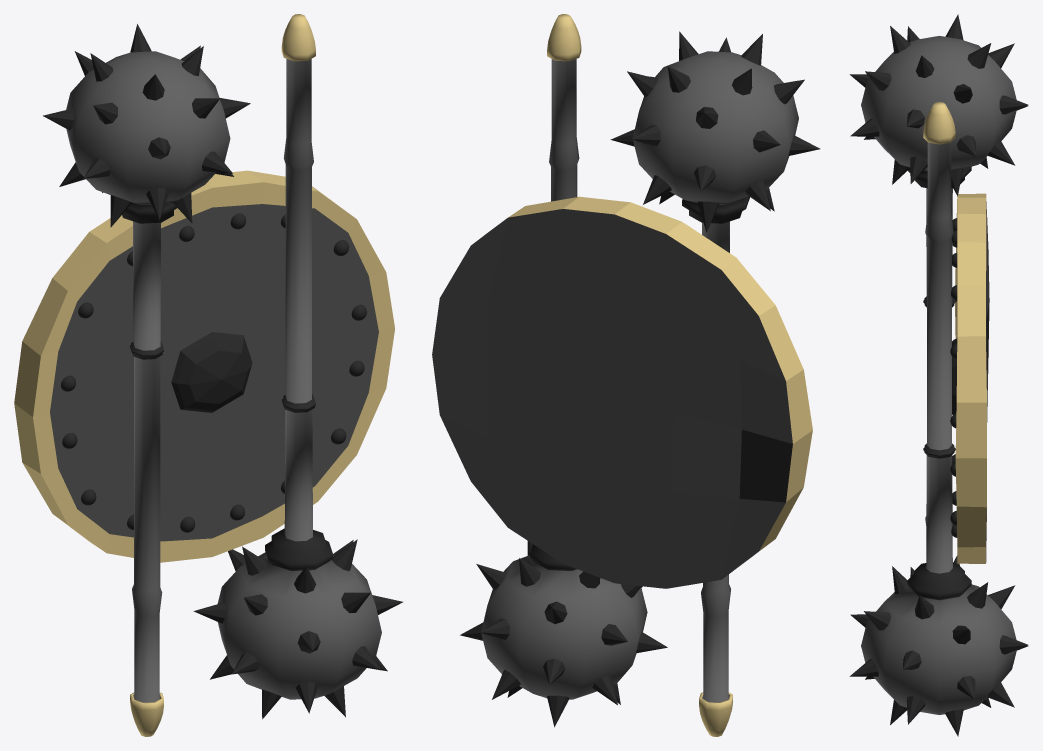
Rendered from Comb_4.fbx.
3 renders of one model, left to right at view 1: azimuth 30°, elevation 25°; view 2: azimuth 150°, elevation 25°; view 3: azimuth 270°, elevation 25°, orthographic. The views are drawn at different scales.
Parts seen in each view (by area): view 1: Shield 1.005; view 2: Shield 1.005; view 3: Shield 1.005.
Part boxes in pixels (x1=…): Shield 1.005: x1=14, y1=14, x2=402, y2=736; Shield 1.005: x1=432, y1=14, x2=820, y2=736; Shield 1.005: x1=849, y1=14, x2=1028, y2=736.
Bounding box in the file's own units: 65.3 × 119 × 31.33.
